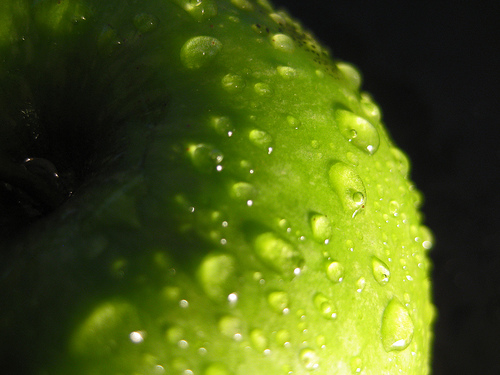apple: (1, 1, 438, 374)
